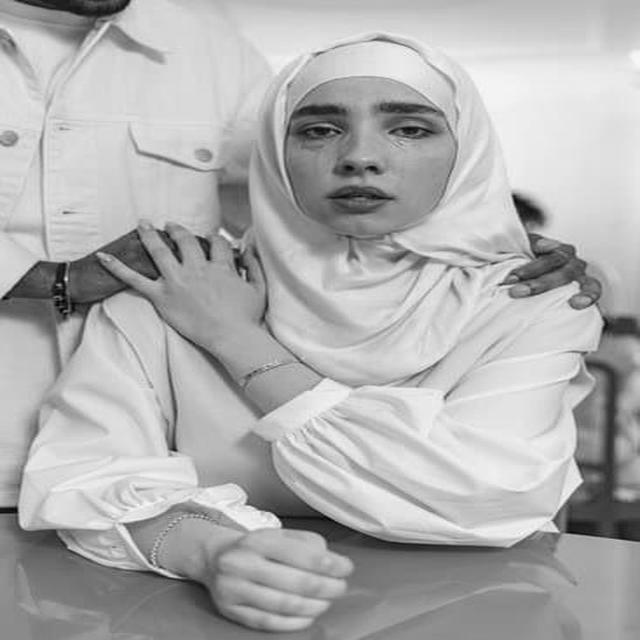Sadness: (288, 80, 446, 236)
